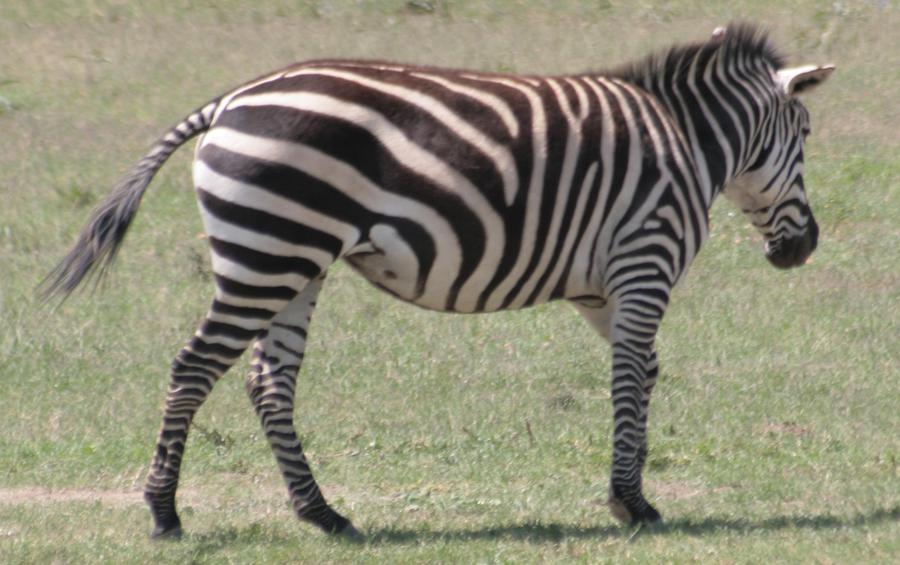zebra_plains: (203, 41, 705, 310)
